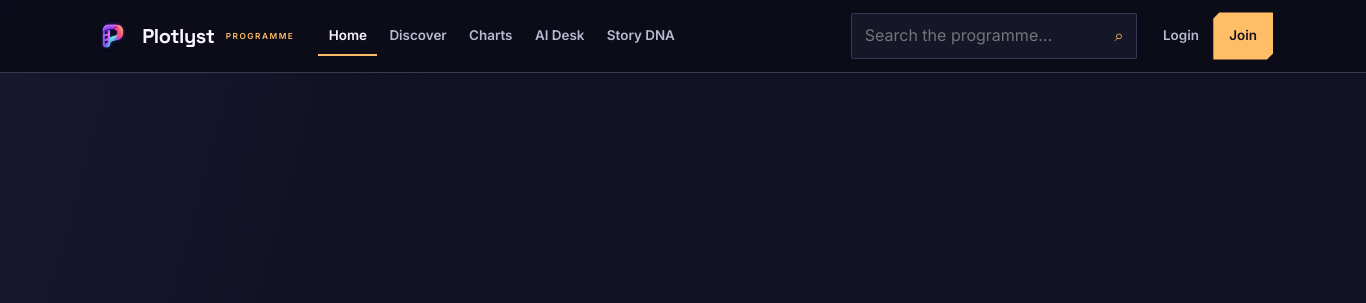
Test: Header navigation and autocomplete › renders person photography and poster artwork in suggestions
Type "re" into the dropdown. click: {"x": 994, "y": 36}
box: [851,13,1137,59]
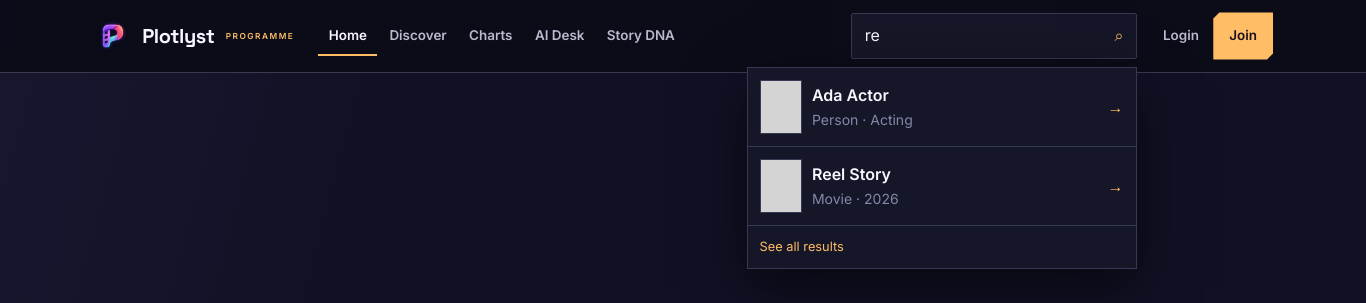
expect the text "Ada Actor" is shown: met, box [812,85,889,105]
expect the text "Reel Story" is shown: met, box [812,164,891,184]
